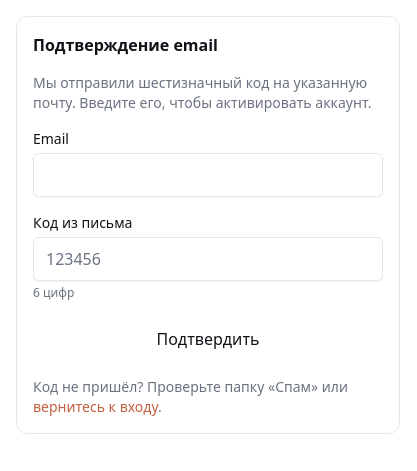
Test: VerifyEmailPage › проверяет формат email и длину кода
The width and height of the screenshot is (417, 471).
Type "not-email" into the field labelled "Email". click: (208, 175)
box: [33, 153, 383, 197]
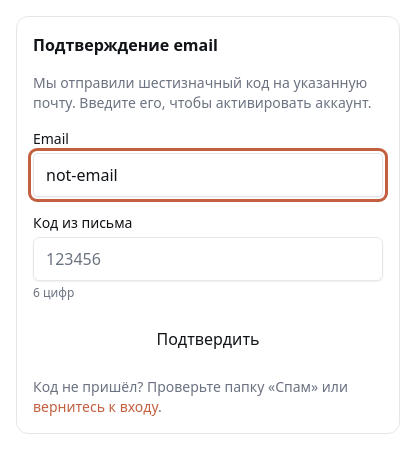
Type "123" into the field labelled "Код из письма". click: (208, 259)
box: [33, 237, 383, 281]
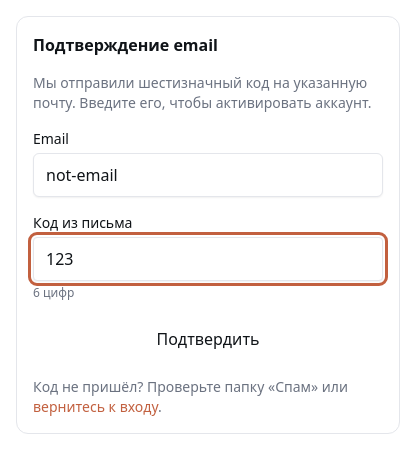
Click the button "Подтвердить". click: (208, 339)
box: [33, 317, 383, 361]
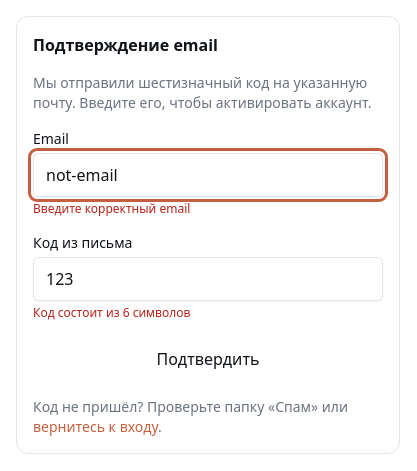
Now the text "Введите корректный email" is shown, box [33, 200, 190, 217]
Now the text "Код состоит из 6 символов" is shown, box [33, 304, 190, 321]
